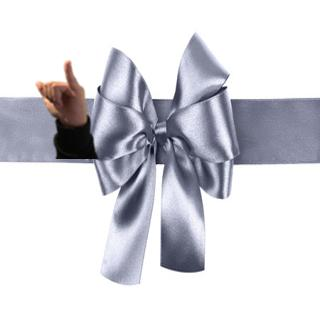HAVE: (24, 55, 87, 123)
